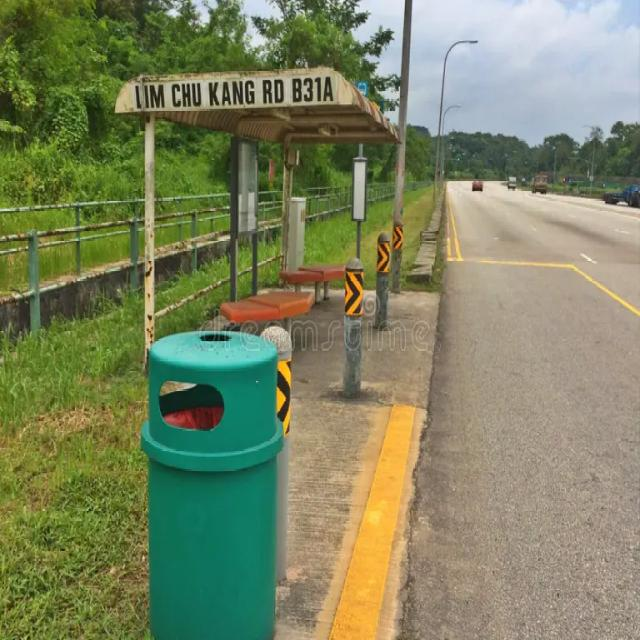bin_empty: (140, 334, 282, 636)
